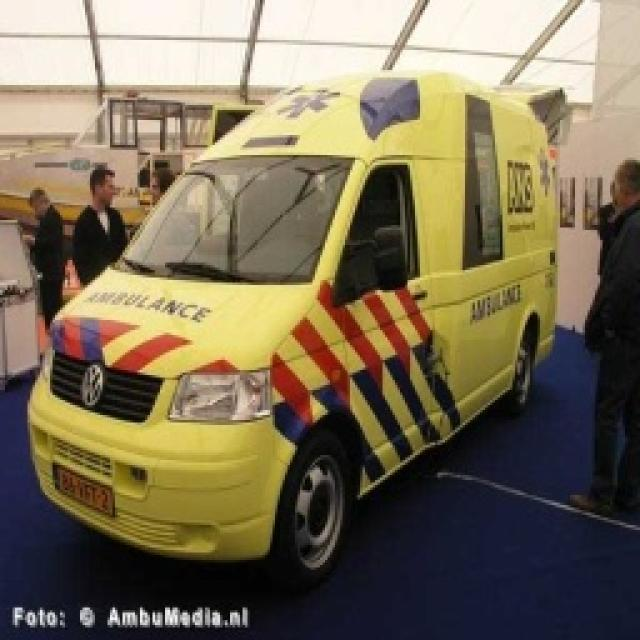emergency-vehicle: (24, 46, 615, 593)
